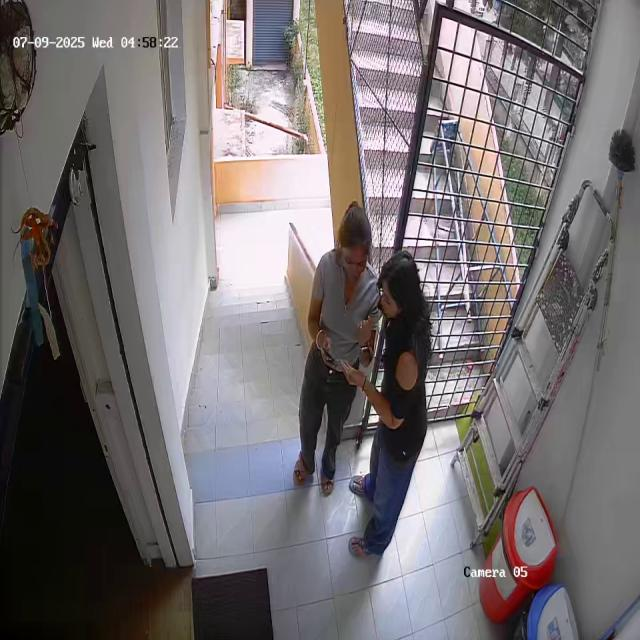person: (351, 246, 435, 560), (288, 204, 367, 488)
